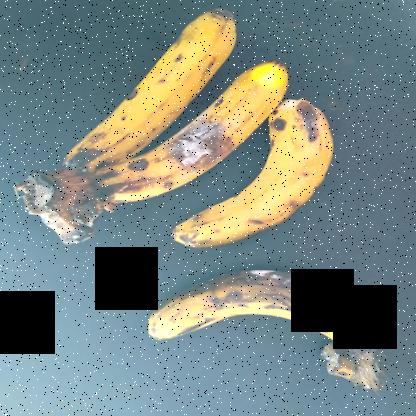overripe: (96, 51, 312, 209), (57, 1, 247, 180), (174, 108, 348, 252)
rotten: (128, 256, 390, 366)
